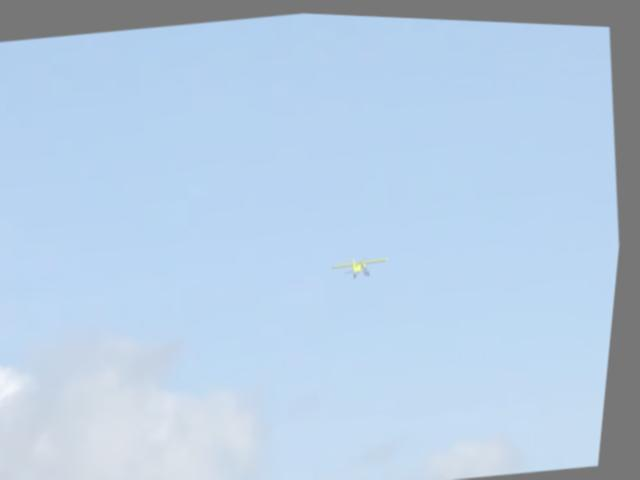plane: (333, 245, 396, 280)
